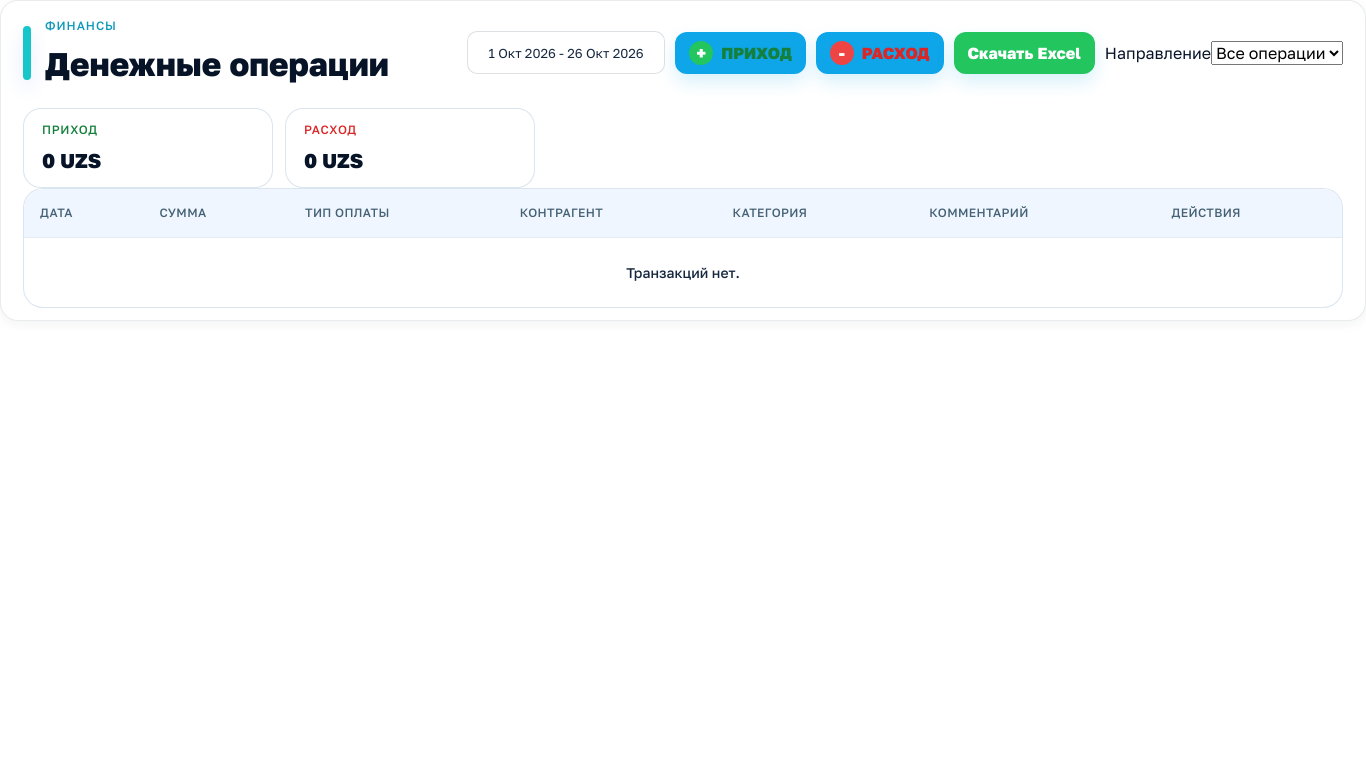
Test case: FE-06 request and form safety › blocks duplicate finance creates and keeps the drawer open after backend failure
Expected: the text "Транзакций нет." is shown, [24,237,1342,307]
Click the button "+ ПРИХОД" at (740, 53), box [675,32,806,74]
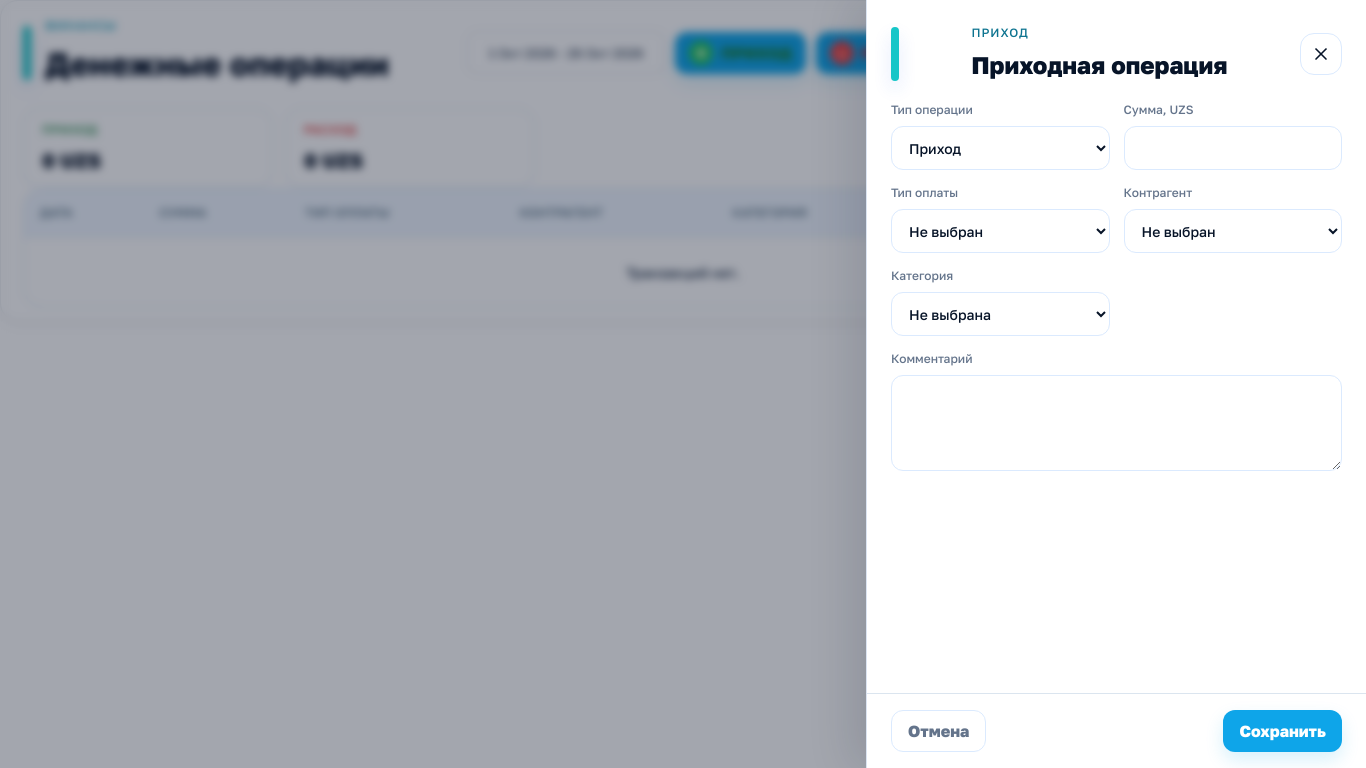
Type "1e3" into the field labelled "Сумма, UZS" at (1233, 148), box [1124,126,1342,170]
Click the button "Сохранить" at (1283, 731), box [1224,710,1342,752]
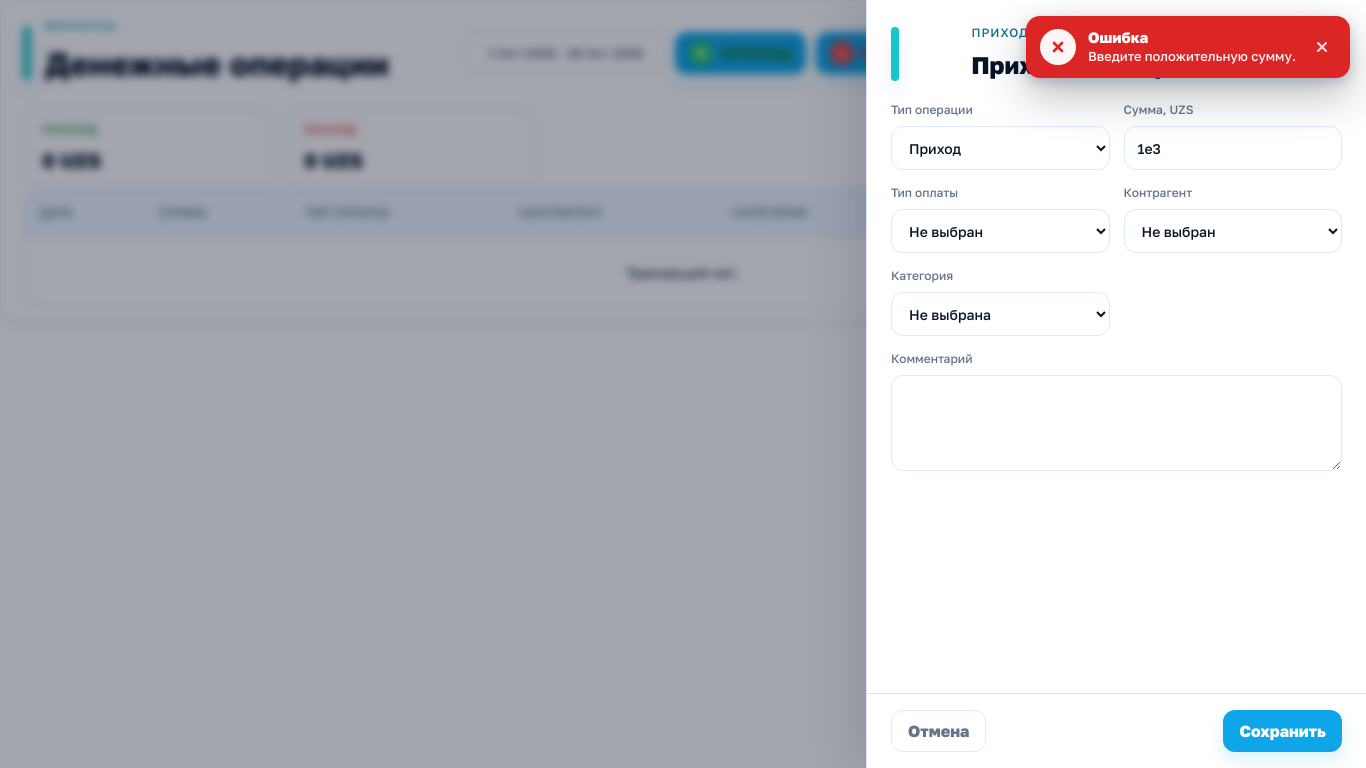
Replace the text in the field labelled "Сумма, UZS" with "1250" at (1233, 148), box [1124,126,1342,170]
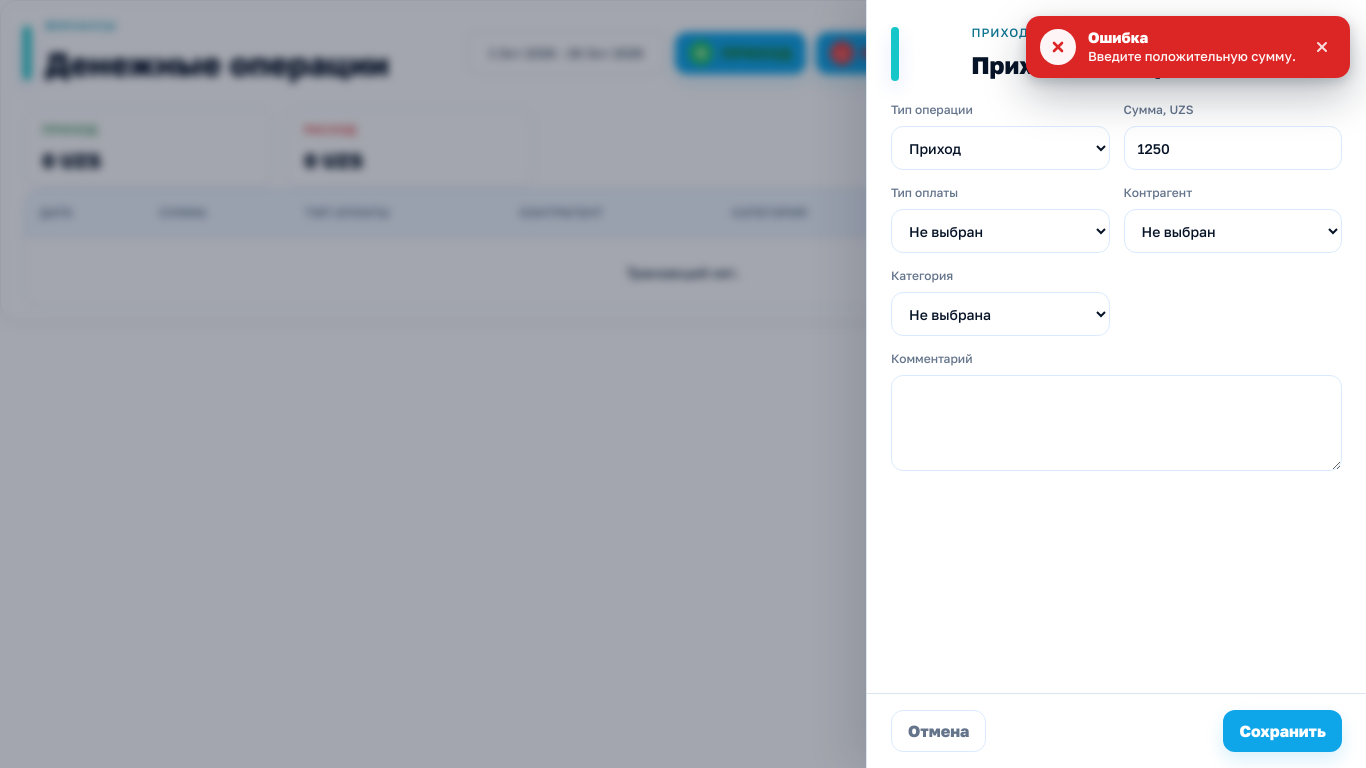
Click the button "Сохранить" at (1283, 731), box [1224,710,1342,752]
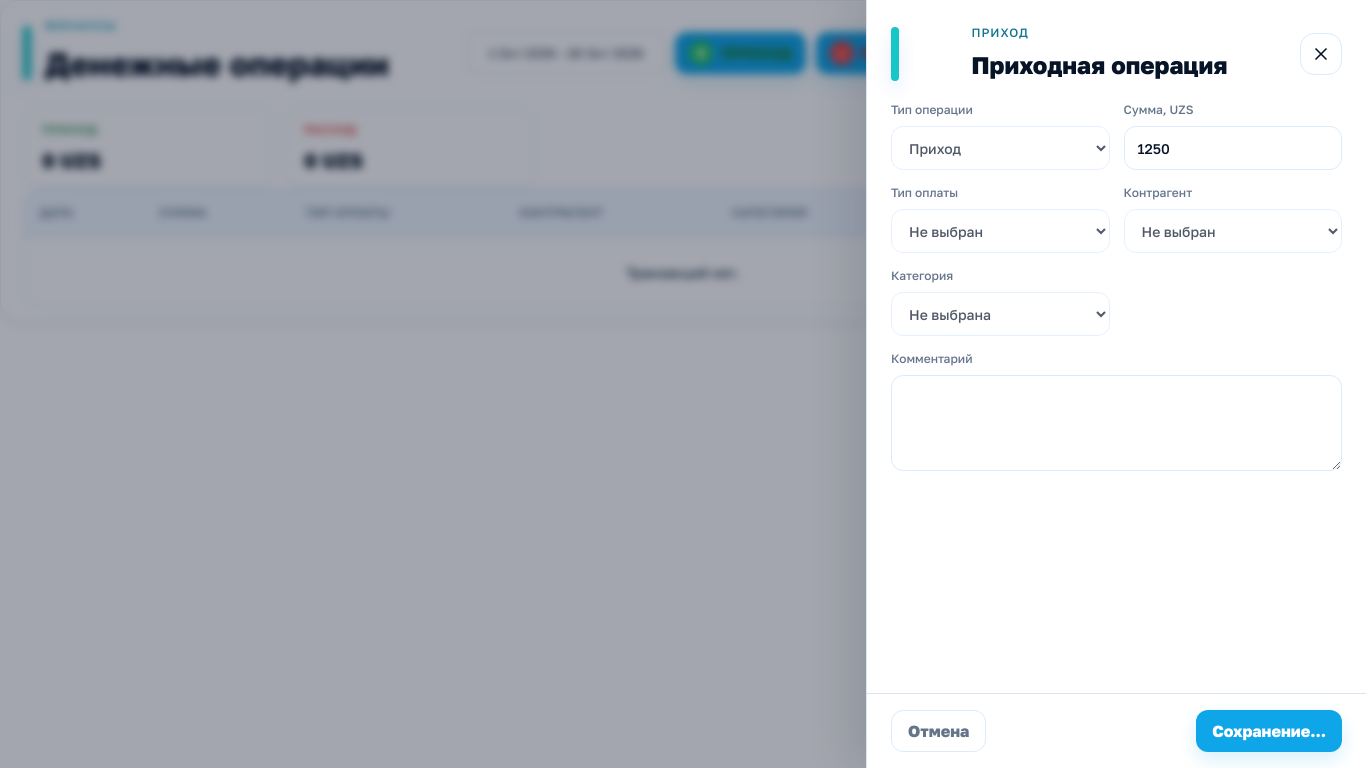
Click the button named "Сохранить" at (1269, 731), box [1196,710,1342,752]
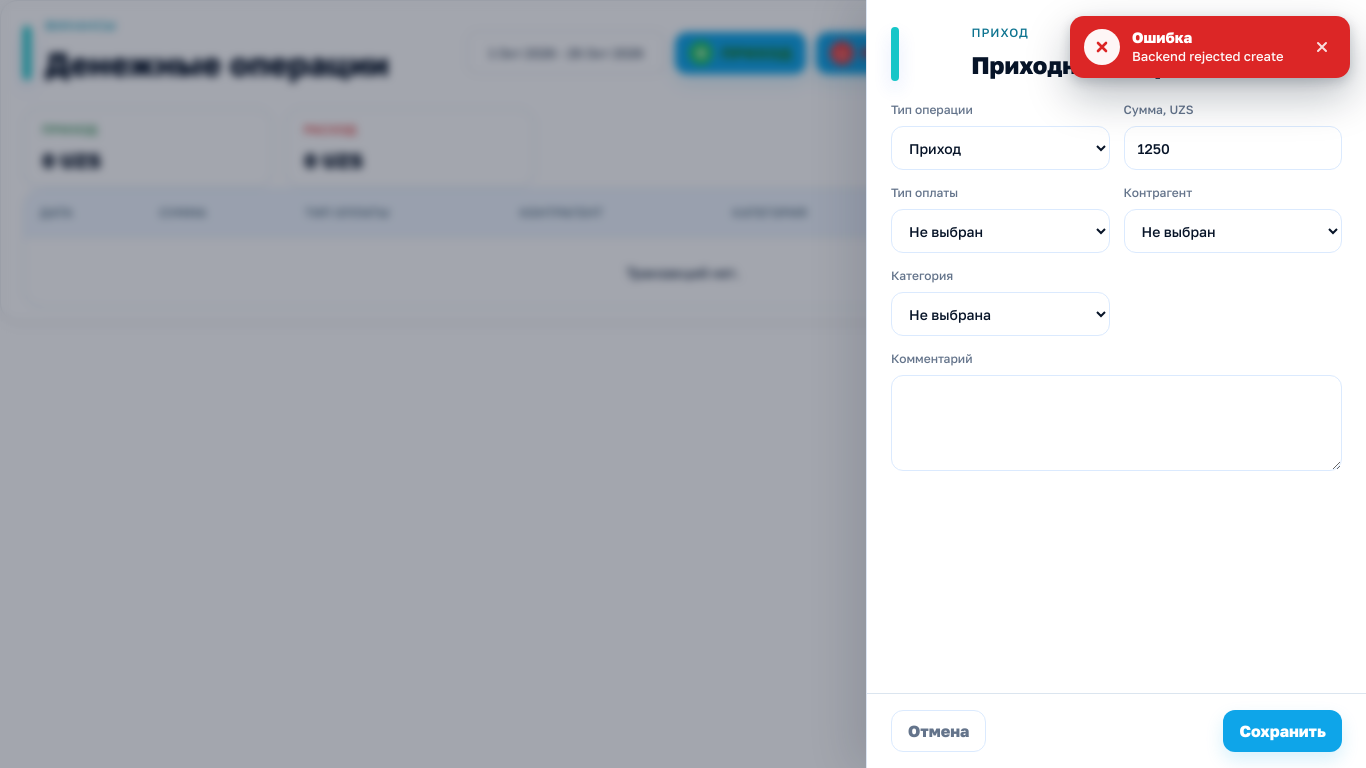
Expected: the dialog is shown
Expected: the message shows "Backend rejected create", [1132,48,1284,64]
Expected: the button "Сохранить" is enabled
Click the button "Сохранить" at (1283, 731), box [1224,710,1342,752]
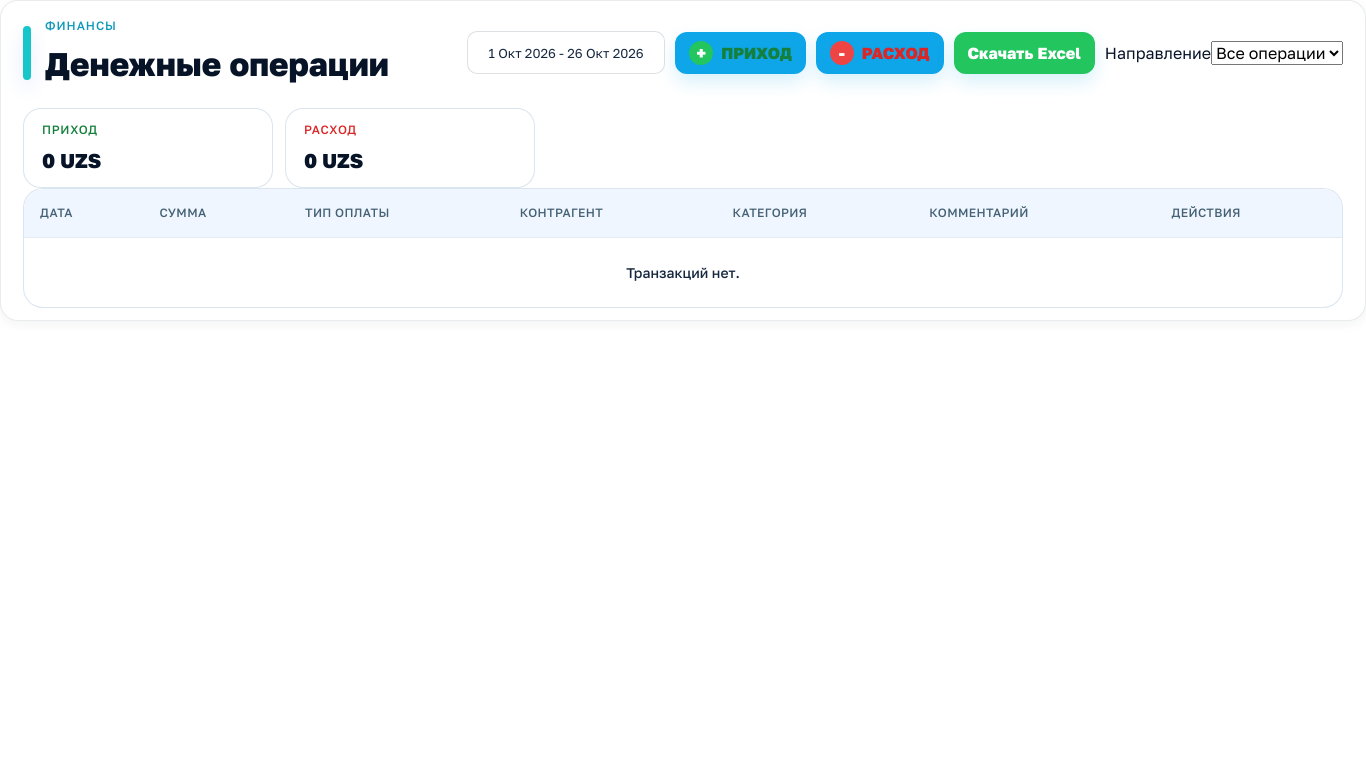
Expected: the dialog is gone
